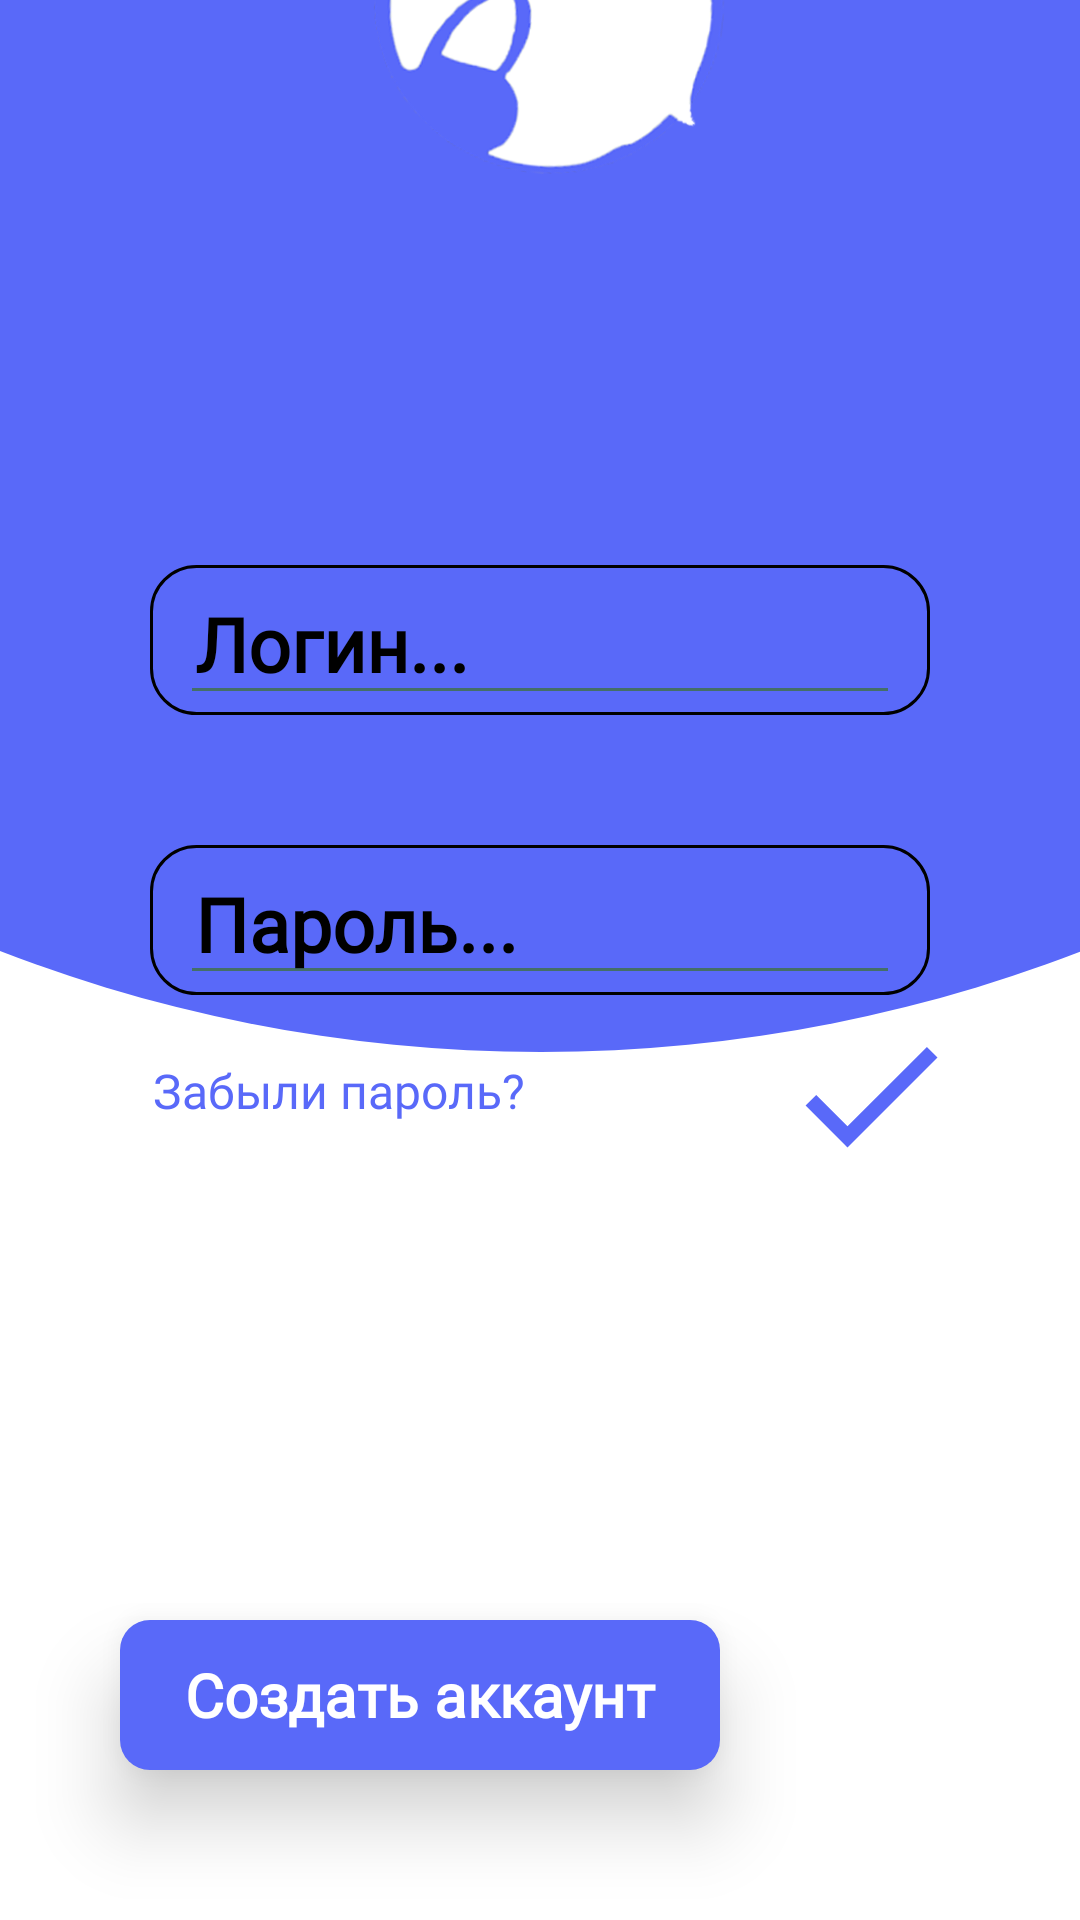

Point at icon controls on the screen. Image size 1080 x 1920, points as (x=x, y=y).
check: (x=871, y=1097)
